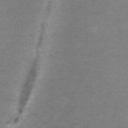finishing roll printing: (14, 0, 52, 122)
